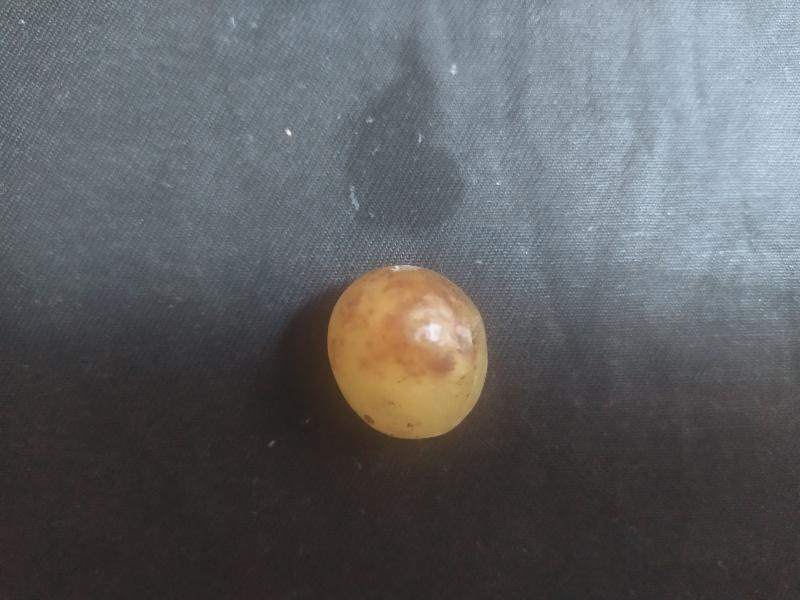Grape Rotten: (323, 261, 490, 442)
